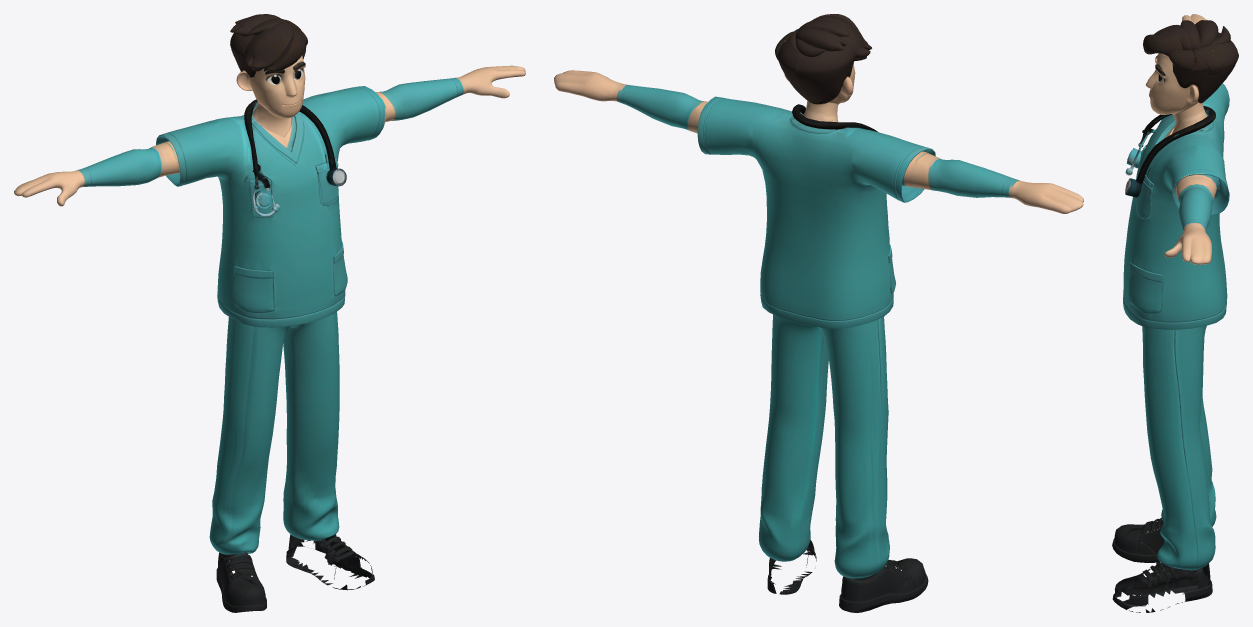
The model's file is toonstudio_doctor_scrubs.glb.
3 renders of one model, left to right at view 1: azimuth 30°, elevation 25°; view 2: azimuth 150°, elevation 25°; view 3: azimuth 270°, elevation 25°, orthographic. The views are drawn at different scales.
Visible parts, largest first — view 1: tripo_2d017fec_ebd7_4abe_b235_2e9e87443634; view 2: tripo_2d017fec_ebd7_4abe_b235_2e9e87443634; view 3: tripo_2d017fec_ebd7_4abe_b235_2e9e87443634.
Part boxes in pixels (box(x1,y1,x2,y2)): tripo_2d017fec_ebd7_4abe_b235_2e9e87443634: box(14, 14, 525, 612); tripo_2d017fec_ebd7_4abe_b235_2e9e87443634: box(554, 14, 1083, 612); tripo_2d017fec_ebd7_4abe_b235_2e9e87443634: box(1112, 14, 1238, 612).
Bounding box in the file's own units: 1.63 × 1.7 × 0.353.
Materials: 1 (1 with a texture image).
